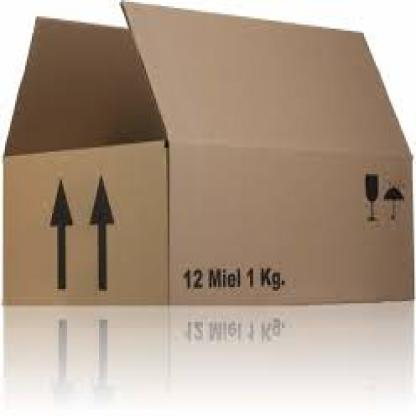Aluminum can: (6, 14, 416, 358)
